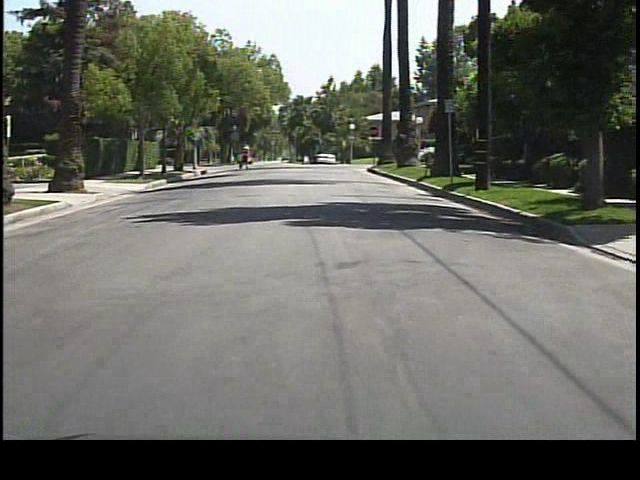person: (238, 141, 254, 173)
